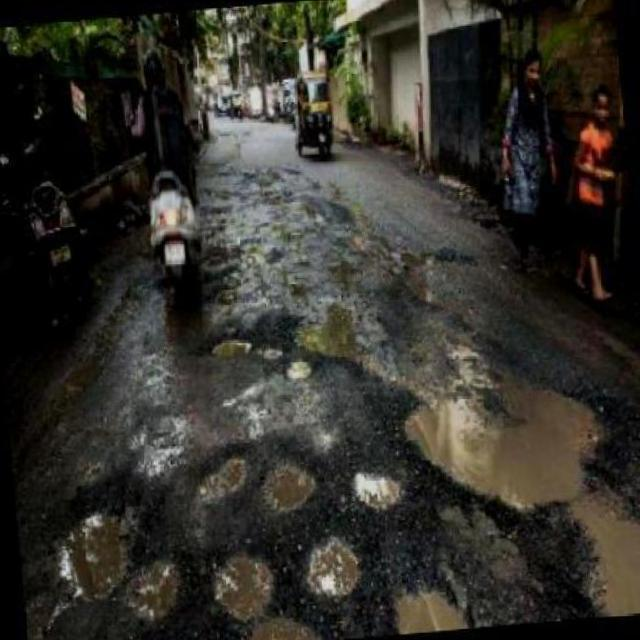Pothole: (405, 390, 640, 615), (61, 513, 127, 600), (123, 560, 183, 626), (214, 555, 274, 621), (309, 537, 360, 603), (397, 592, 470, 633), (260, 461, 315, 512), (198, 457, 244, 504), (247, 613, 326, 640), (352, 472, 399, 511), (210, 339, 251, 360), (284, 361, 312, 382)
